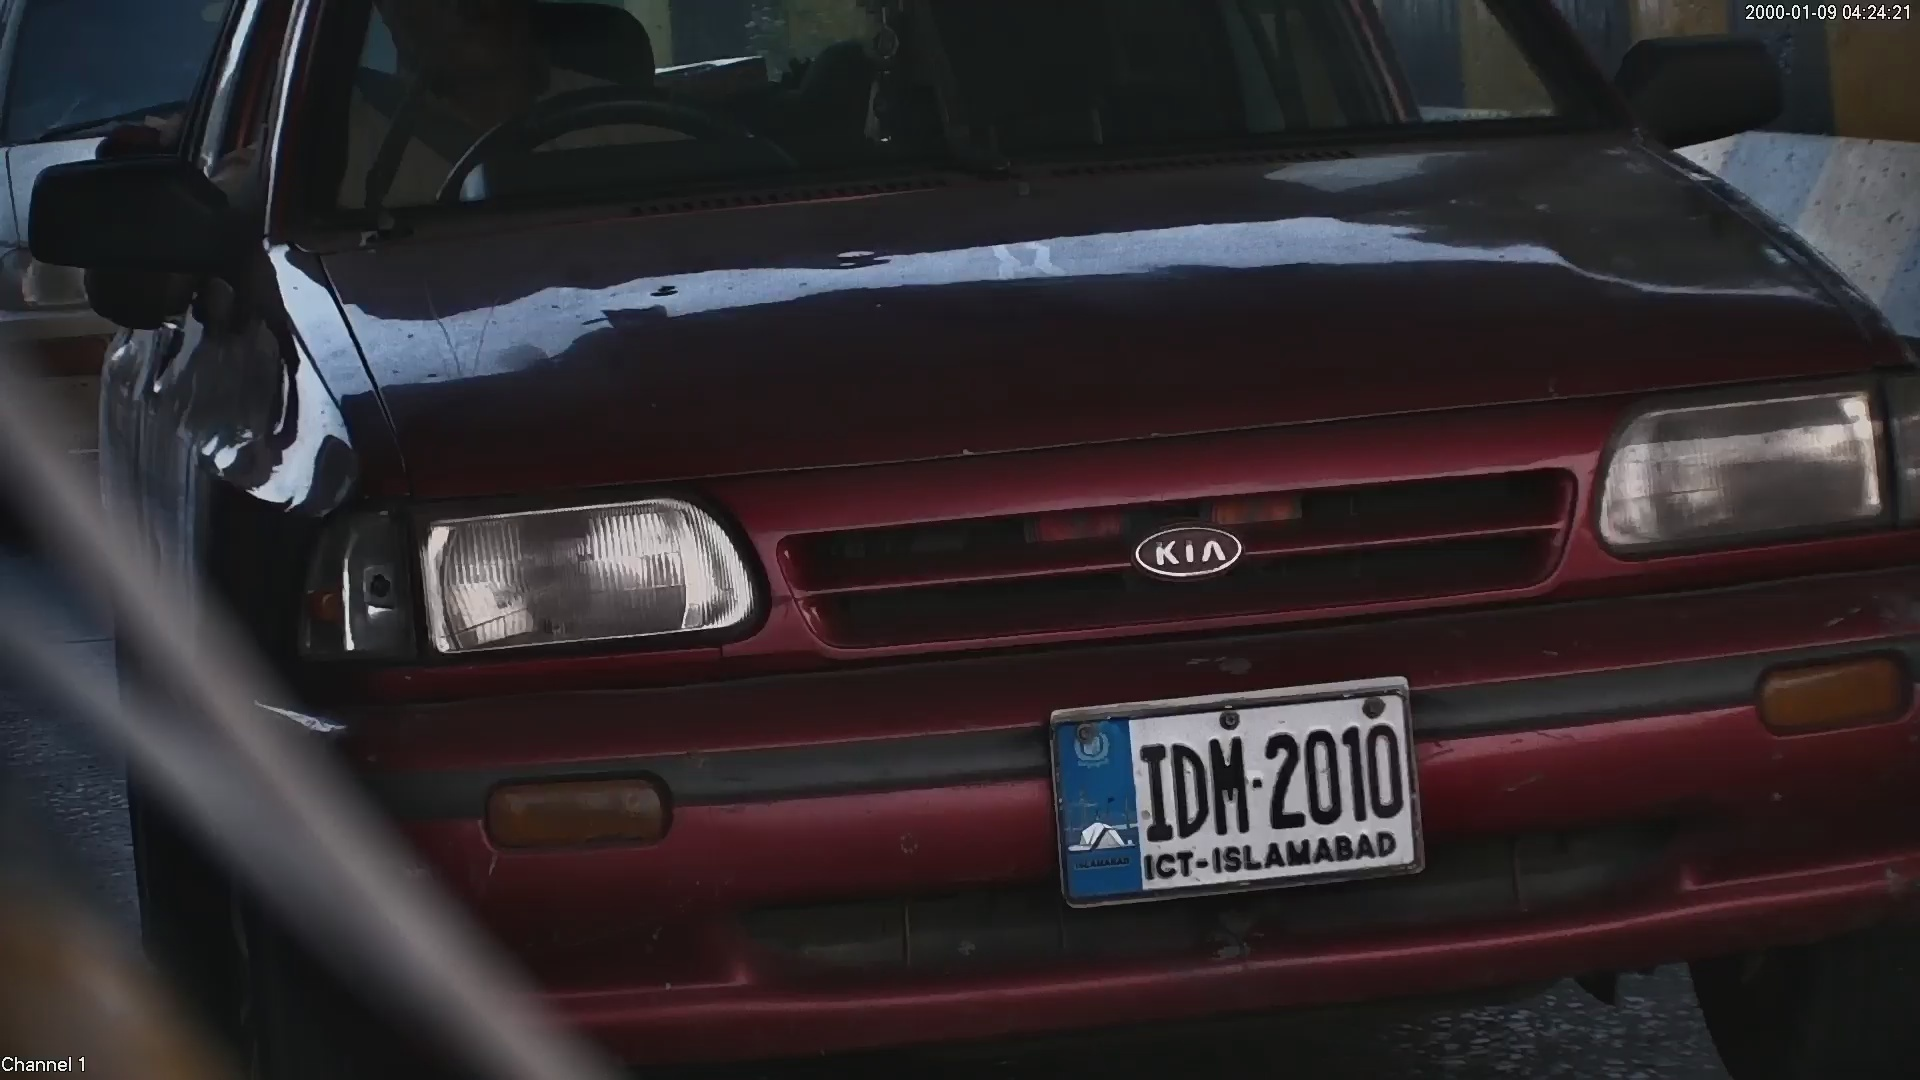Number_Plate: (1028, 666, 1441, 916)
Undefined: (317, 505, 750, 640), (1589, 377, 1902, 540), (465, 764, 684, 849), (1739, 653, 1915, 738), (1130, 523, 1245, 581)
